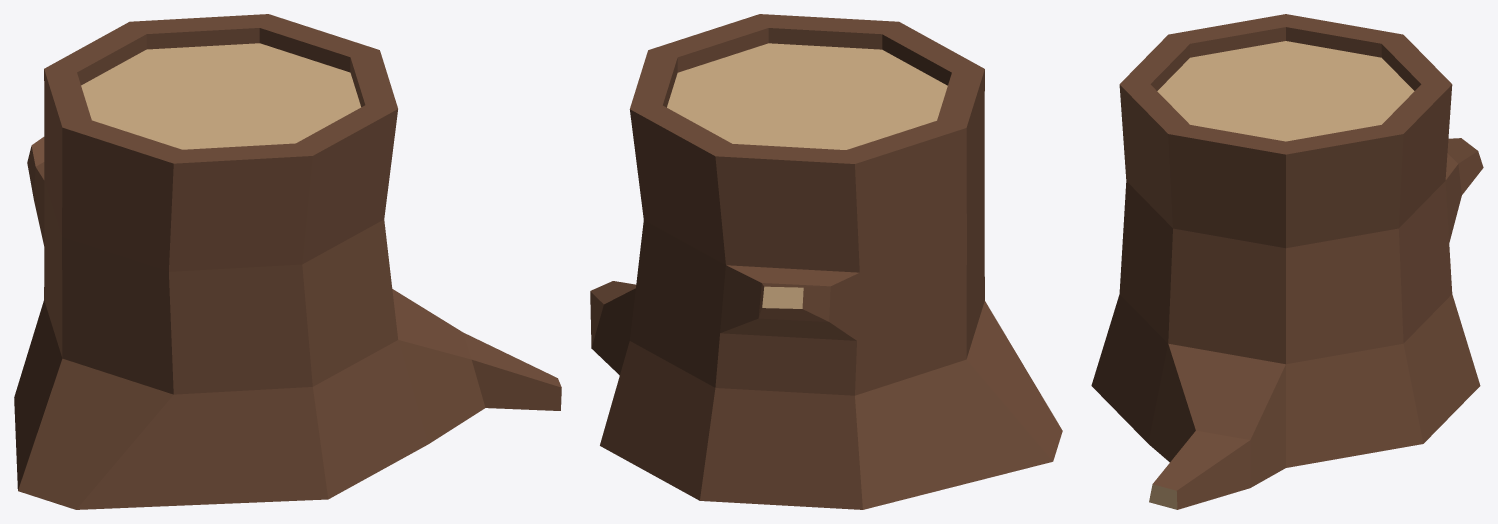
Rendered from WoodChop.fbx.
The picture shows the model from 3 angles, left to right: view 1: azimuth 30°, elevation 25°; view 2: azimuth 150°, elevation 25°; view 3: azimuth 270°, elevation 25°; orthographic projection. The views are drawn at different scales.
Parts seen in each view (by area): view 1: Cylinder; view 2: Cylinder; view 3: Cylinder.
Boxes of the visible parts, bbox=[...] form: Cylinder: bbox=[14, 14, 561, 509]; Cylinder: bbox=[590, 14, 1062, 509]; Cylinder: bbox=[1091, 14, 1483, 509].
Size of the model in its own units: 316 by 201 by 236.
